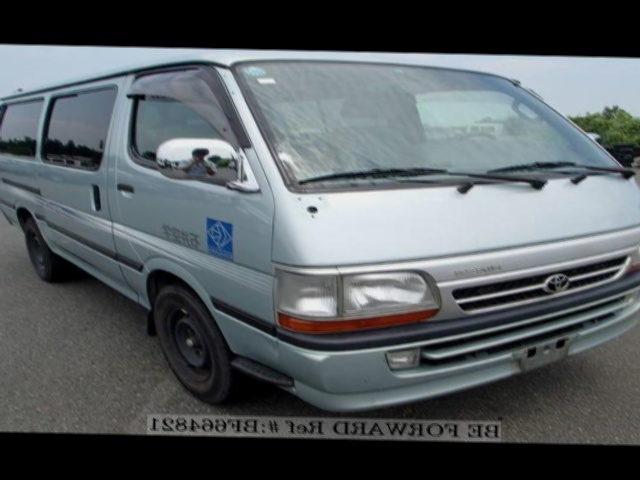van: (0, 45, 640, 411)
